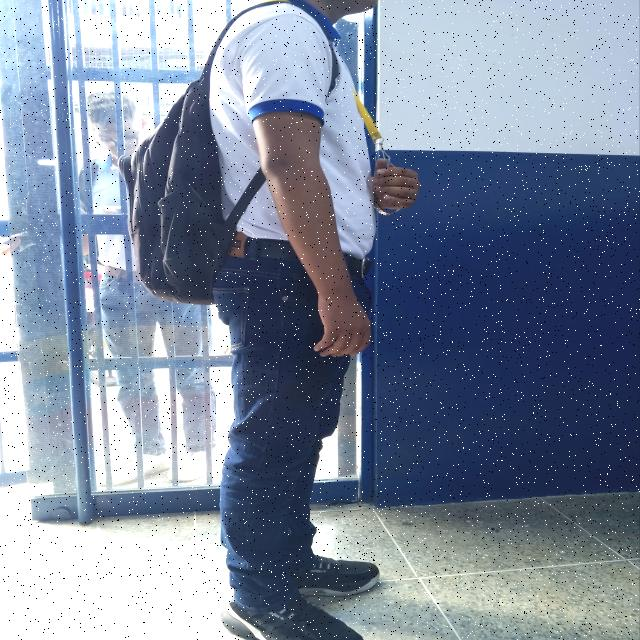pantalon_oscuro: (211, 258, 376, 615)
uniforme_superior: (207, 0, 378, 258)
